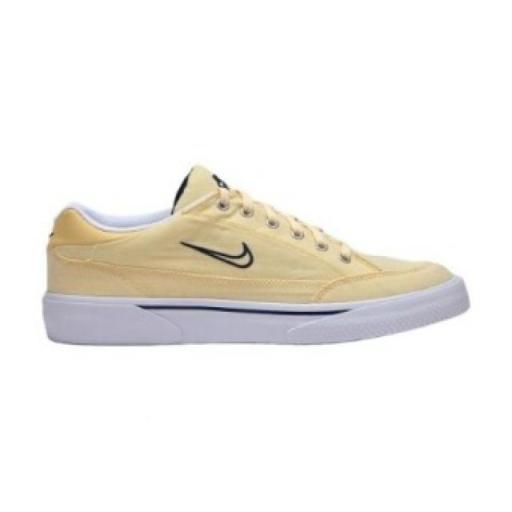Nike: (172, 234, 260, 271)
